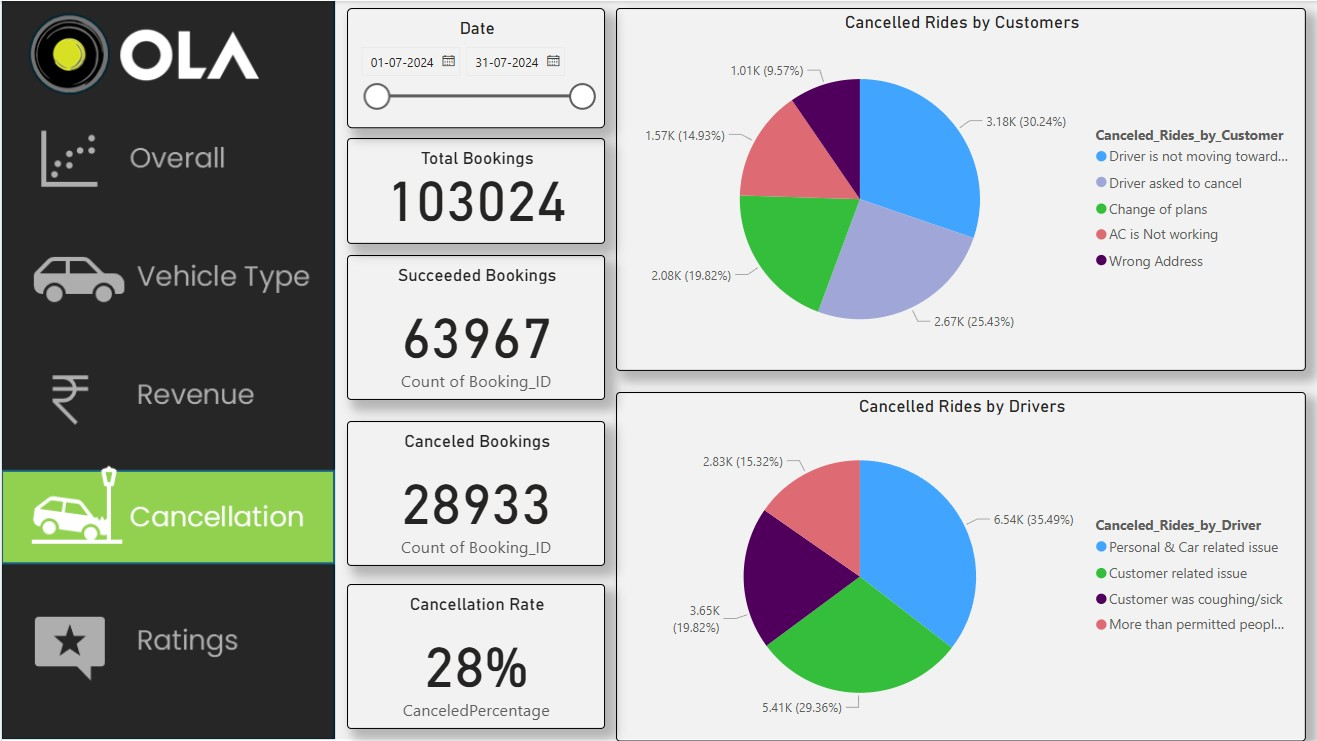

This screenshot's page, from the dashboard's own definition file:
{"tool":"powerbi","page":{"name":"Cancellation","canvas":[1280,720],"ordinal":3},"visuals":[{"type":"actionButton","box":[3.3,220,322.2,112.2],"z":0},{"type":"actionButton","box":[0,332.2,322.2,112.2],"z":1000},{"type":"actionButton","box":[0,567.8,322.2,110],"z":2000},{"type":"actionButton","box":[0,101.1,322.2,111.1],"z":3000},{"type":"pieChart","title":"Cancelled Rides by Customers","fields":{"Category":["July.Canceled_Rides_by_Customer"],"Y":["CountNonNull(July.Canceled_Rides_by_Customer)"]},"box":[597.1,7.1,671.4,352.9],"z":4000},{"type":"pieChart","title":"Cancelled Rides by Drivers","fields":{"Category":["July.Canceled_Rides_by_Driver"],"Y":["CountNonNull(July.Canceled_Rides_by_Driver)"]},"box":[597.1,380,671.4,340],"z":5000},{"type":"slicer","title":"Date","fields":{"Values":["July.Date"]},"box":[335.7,7.1,251.4,117.1],"z":6000},{"type":"card","title":"Total Bookings","fields":{"Values":["Count(July.Booking_ID)"]},"box":[335.7,132.9,251.4,102.9],"z":7000},{"type":"card","title":"Succeeded Bookings","fields":{"Values":["Count(July.Booking_ID)"]},"box":[335.7,247.1,251.4,141.4],"z":8000},{"type":"card","title":"Canceled Bookings","fields":{"Values":["Count(July.Booking_ID)"]},"box":[335.7,408.6,251.4,141.4],"z":9000},{"type":"card","title":"Cancellation Rate","fields":{"Values":["July.CanceledPercentage"]},"box":[335.7,567.1,251.4,141.4],"z":10000}]}

Visuals, with their boxes in screenshot pixels (x1, y1, x2, y2), scaled from the page's 1280x720 canvas onto the 1317x741 screenshot:
actionButton: select_region(3, 226, 335, 342)
actionButton: select_region(0, 342, 332, 457)
actionButton: select_region(0, 584, 332, 698)
actionButton: select_region(0, 104, 332, 218)
"Cancelled Rides by Customers" pieChart: select_region(614, 7, 1305, 370)
"Cancelled Rides by Drivers" pieChart: select_region(614, 391, 1305, 740)
"Date" slicer: select_region(345, 7, 604, 128)
"Total Bookings" card: select_region(345, 137, 604, 243)
"Succeeded Bookings" card: select_region(345, 254, 604, 400)
"Canceled Bookings" card: select_region(345, 421, 604, 566)
"Cancellation Rate" card: select_region(345, 584, 604, 729)
